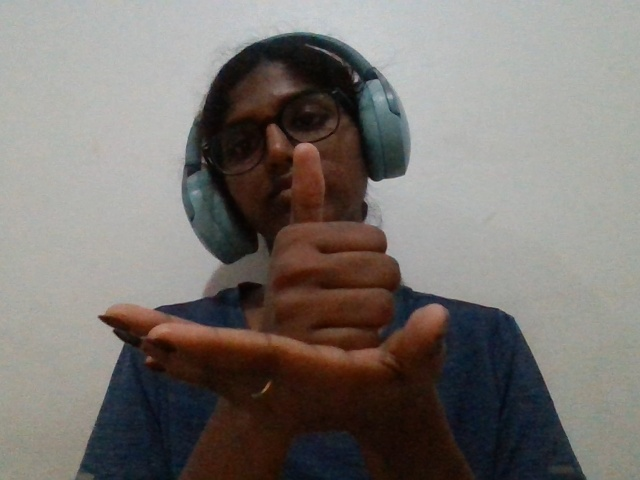Help: (64, 135, 562, 449)
